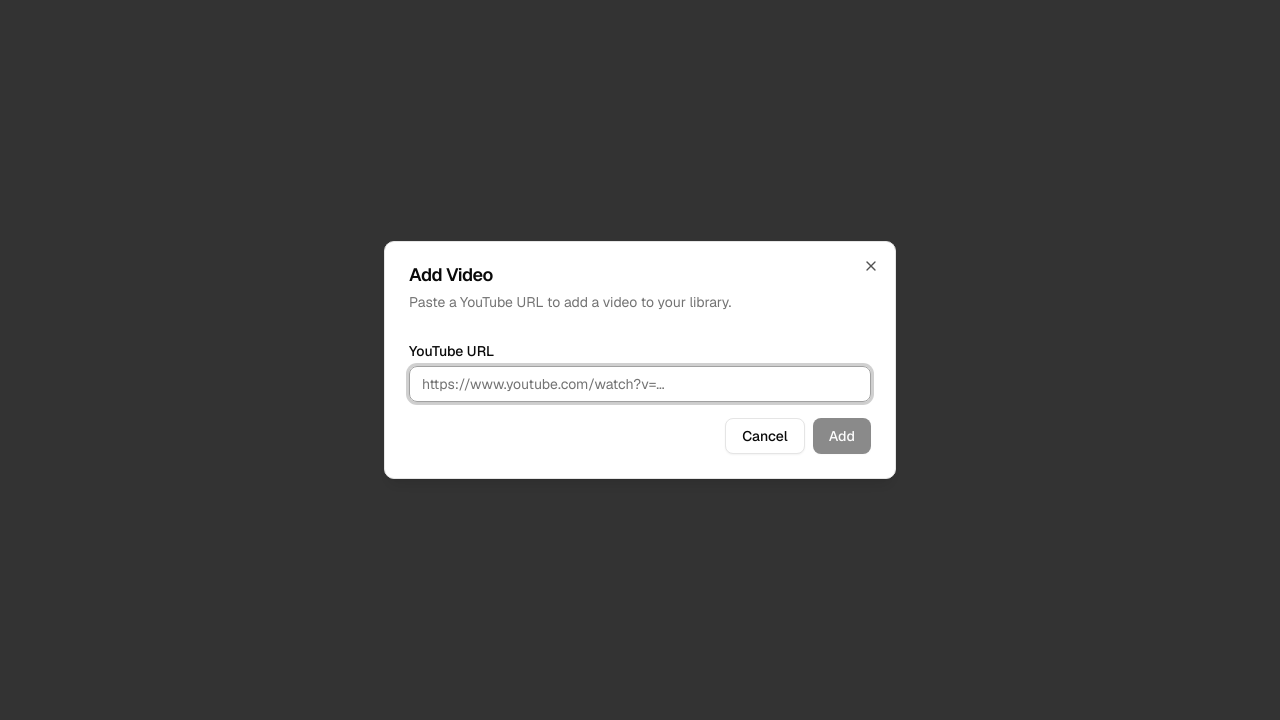
Test: AddVideoModal › form submission › disables form inputs while loading
The image size is (1280, 720).
In the field labelled "YouTube URL": coordinates (640, 384) x1=409 y1=366 x2=871 y2=402, type "https://www.youtube.com/watch?v=dQw4w9WgXcQ"
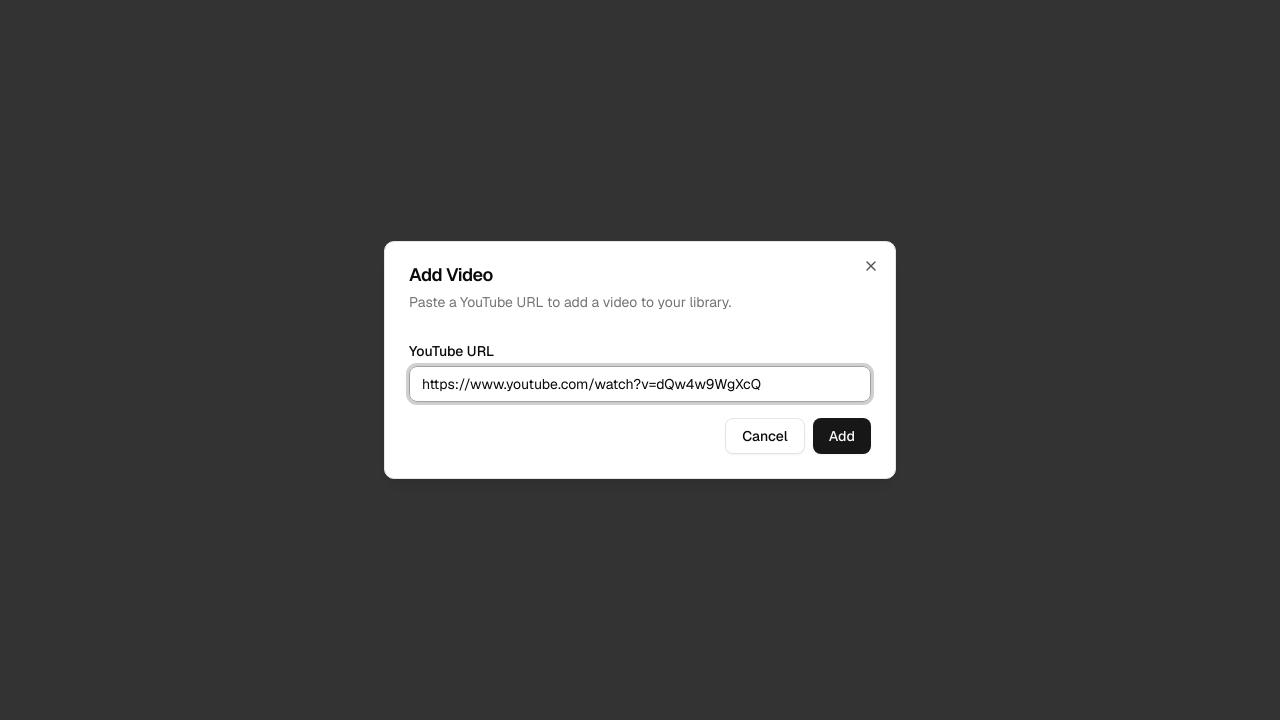
Click the button "Add": coordinates (842, 436) x1=813 y1=418 x2=871 y2=454
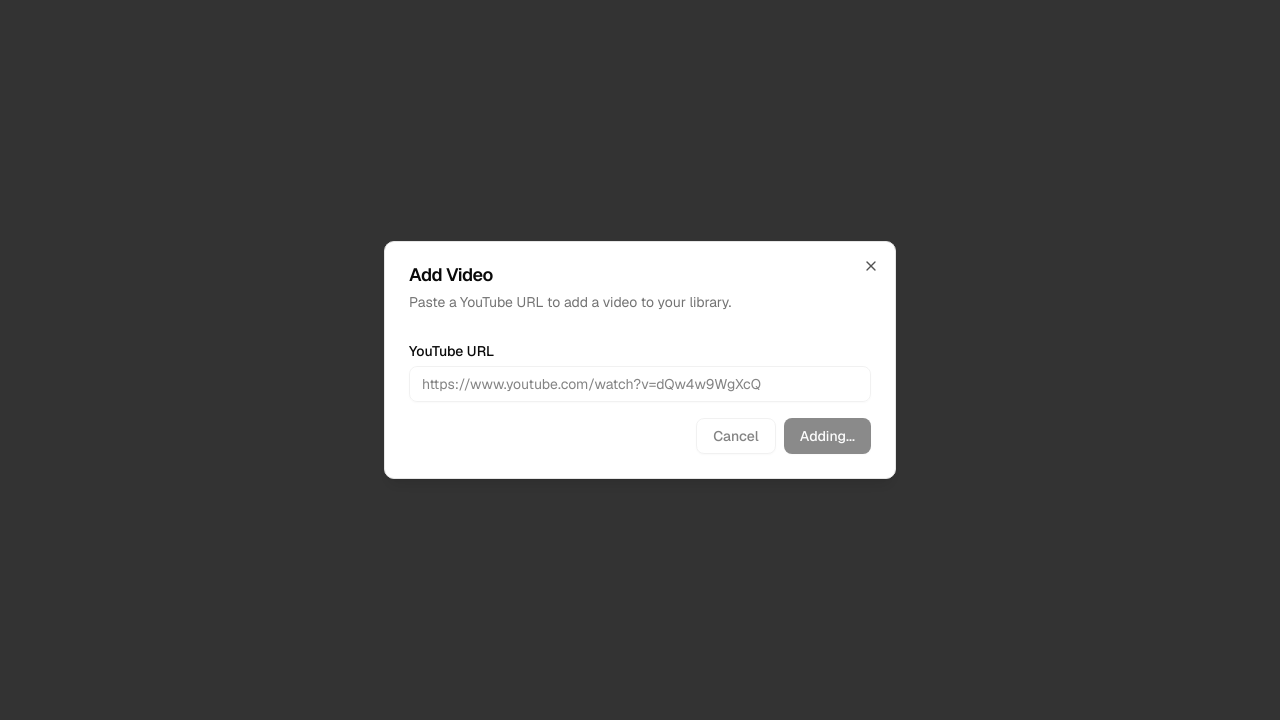
Result: the field labelled "YouTube URL" is disabled at x1=409 y1=366 x2=871 y2=402
Result: the button "Cancel" is disabled at x1=696 y1=418 x2=776 y2=454
